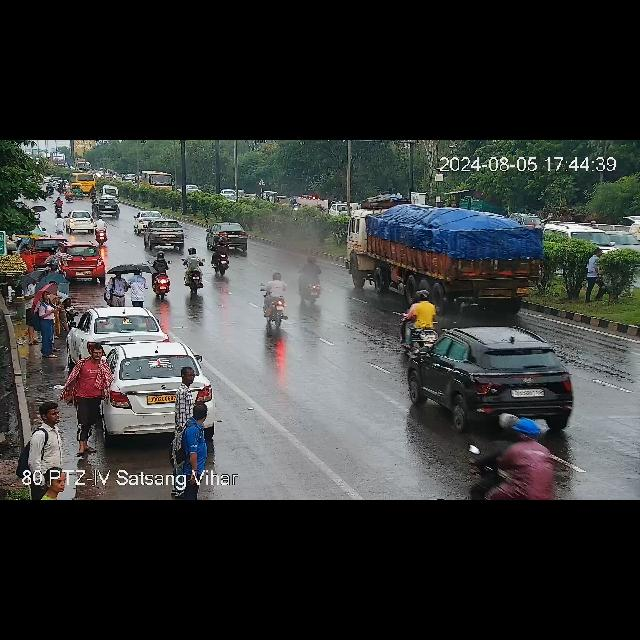bus: (137, 171, 175, 191), (69, 172, 97, 194)
car: (408, 328, 574, 426), (74, 341, 216, 437), (68, 302, 174, 356), (548, 214, 606, 248), (62, 248, 106, 280), (206, 219, 248, 251), (142, 226, 188, 252), (36, 226, 68, 254), (133, 210, 167, 230), (66, 211, 95, 233), (511, 209, 542, 229), (90, 196, 116, 218), (100, 184, 118, 196), (274, 195, 290, 207), (111, 195, 122, 208), (186, 184, 197, 192)
motorcycle: (466, 414, 554, 500), (399, 289, 438, 347), (258, 275, 294, 327), (299, 254, 325, 306), (182, 249, 204, 293), (209, 240, 235, 274), (150, 252, 170, 296), (94, 216, 108, 242), (46, 180, 64, 194), (54, 198, 62, 215), (338, 206, 348, 217), (292, 199, 300, 211), (89, 184, 95, 200), (66, 186, 72, 200), (318, 204, 326, 212)
person: (77, 345, 113, 423), (31, 408, 69, 474), (187, 404, 217, 466), (177, 366, 195, 436), (40, 290, 58, 358), (122, 271, 150, 309), (586, 248, 604, 300), (54, 286, 70, 330), (27, 282, 38, 346), (109, 271, 125, 303), (23, 245, 37, 267), (54, 215, 64, 233), (48, 260, 58, 270)
truck: (346, 209, 544, 303), (72, 158, 96, 174), (49, 153, 67, 167)
